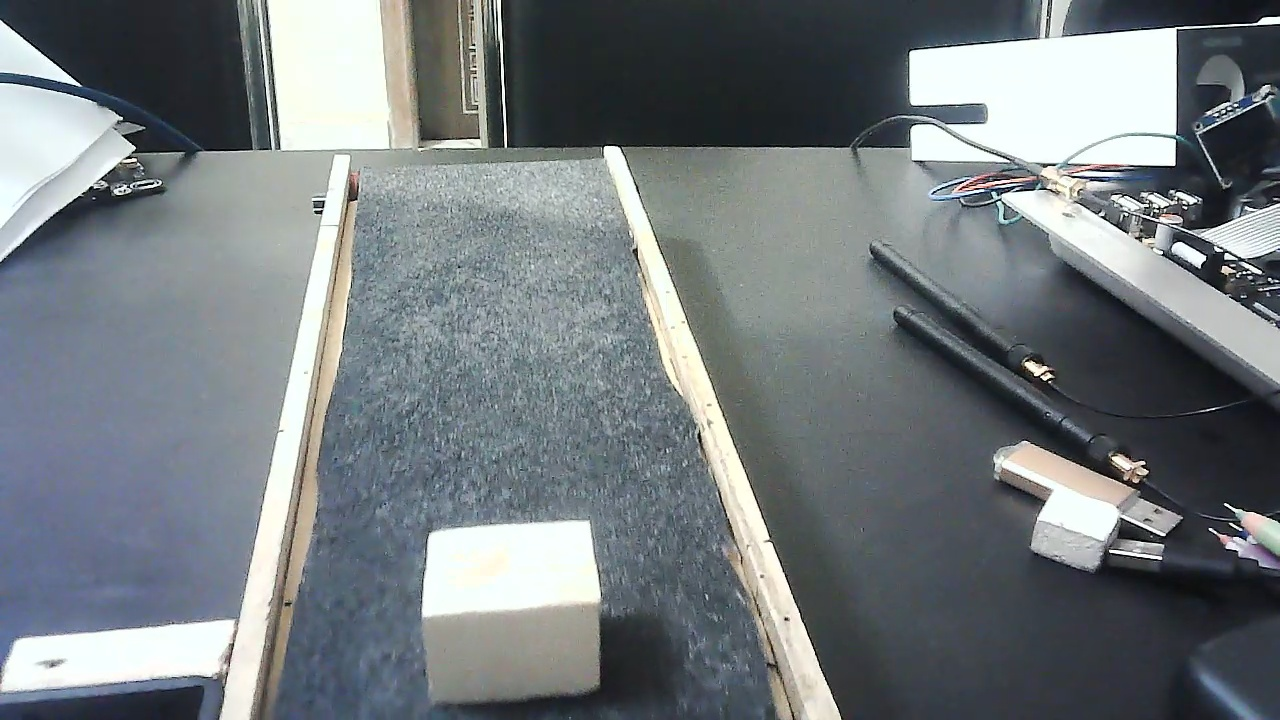Medium: (419, 519, 603, 703)
